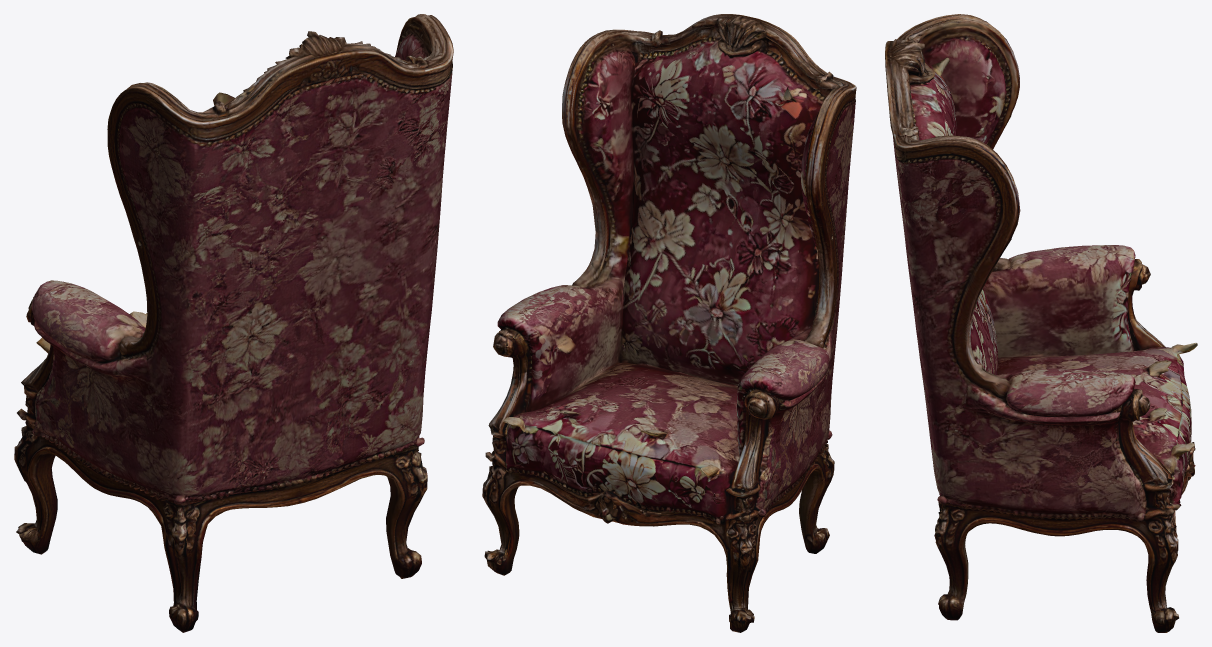
Rendered from scene-armchair-wingback-v03.glb.
The picture shows the model from 3 angles, left to right: view 1: azimuth 30°, elevation 25°; view 2: azimuth 150°, elevation 25°; view 3: azimuth 270°, elevation 25°; orthographic projection. The views are drawn at different scales.
Visible parts, largest first — view 1: tripo_node_567fd9de-11fd-4148-b9e8-447566af8b63; view 2: tripo_node_567fd9de-11fd-4148-b9e8-447566af8b63; view 3: tripo_node_567fd9de-11fd-4148-b9e8-447566af8b63.
Part boxes in pixels (x1,y1,x2,y2): tripo_node_567fd9de-11fd-4148-b9e8-447566af8b63: [14, 14, 453, 632]; tripo_node_567fd9de-11fd-4148-b9e8-447566af8b63: [482, 14, 856, 632]; tripo_node_567fd9de-11fd-4148-b9e8-447566af8b63: [885, 14, 1197, 632].
Size of the model in its own units: 0.7169 by 1.15 by 0.6177.
Materials: 1 (1 with a texture image).
